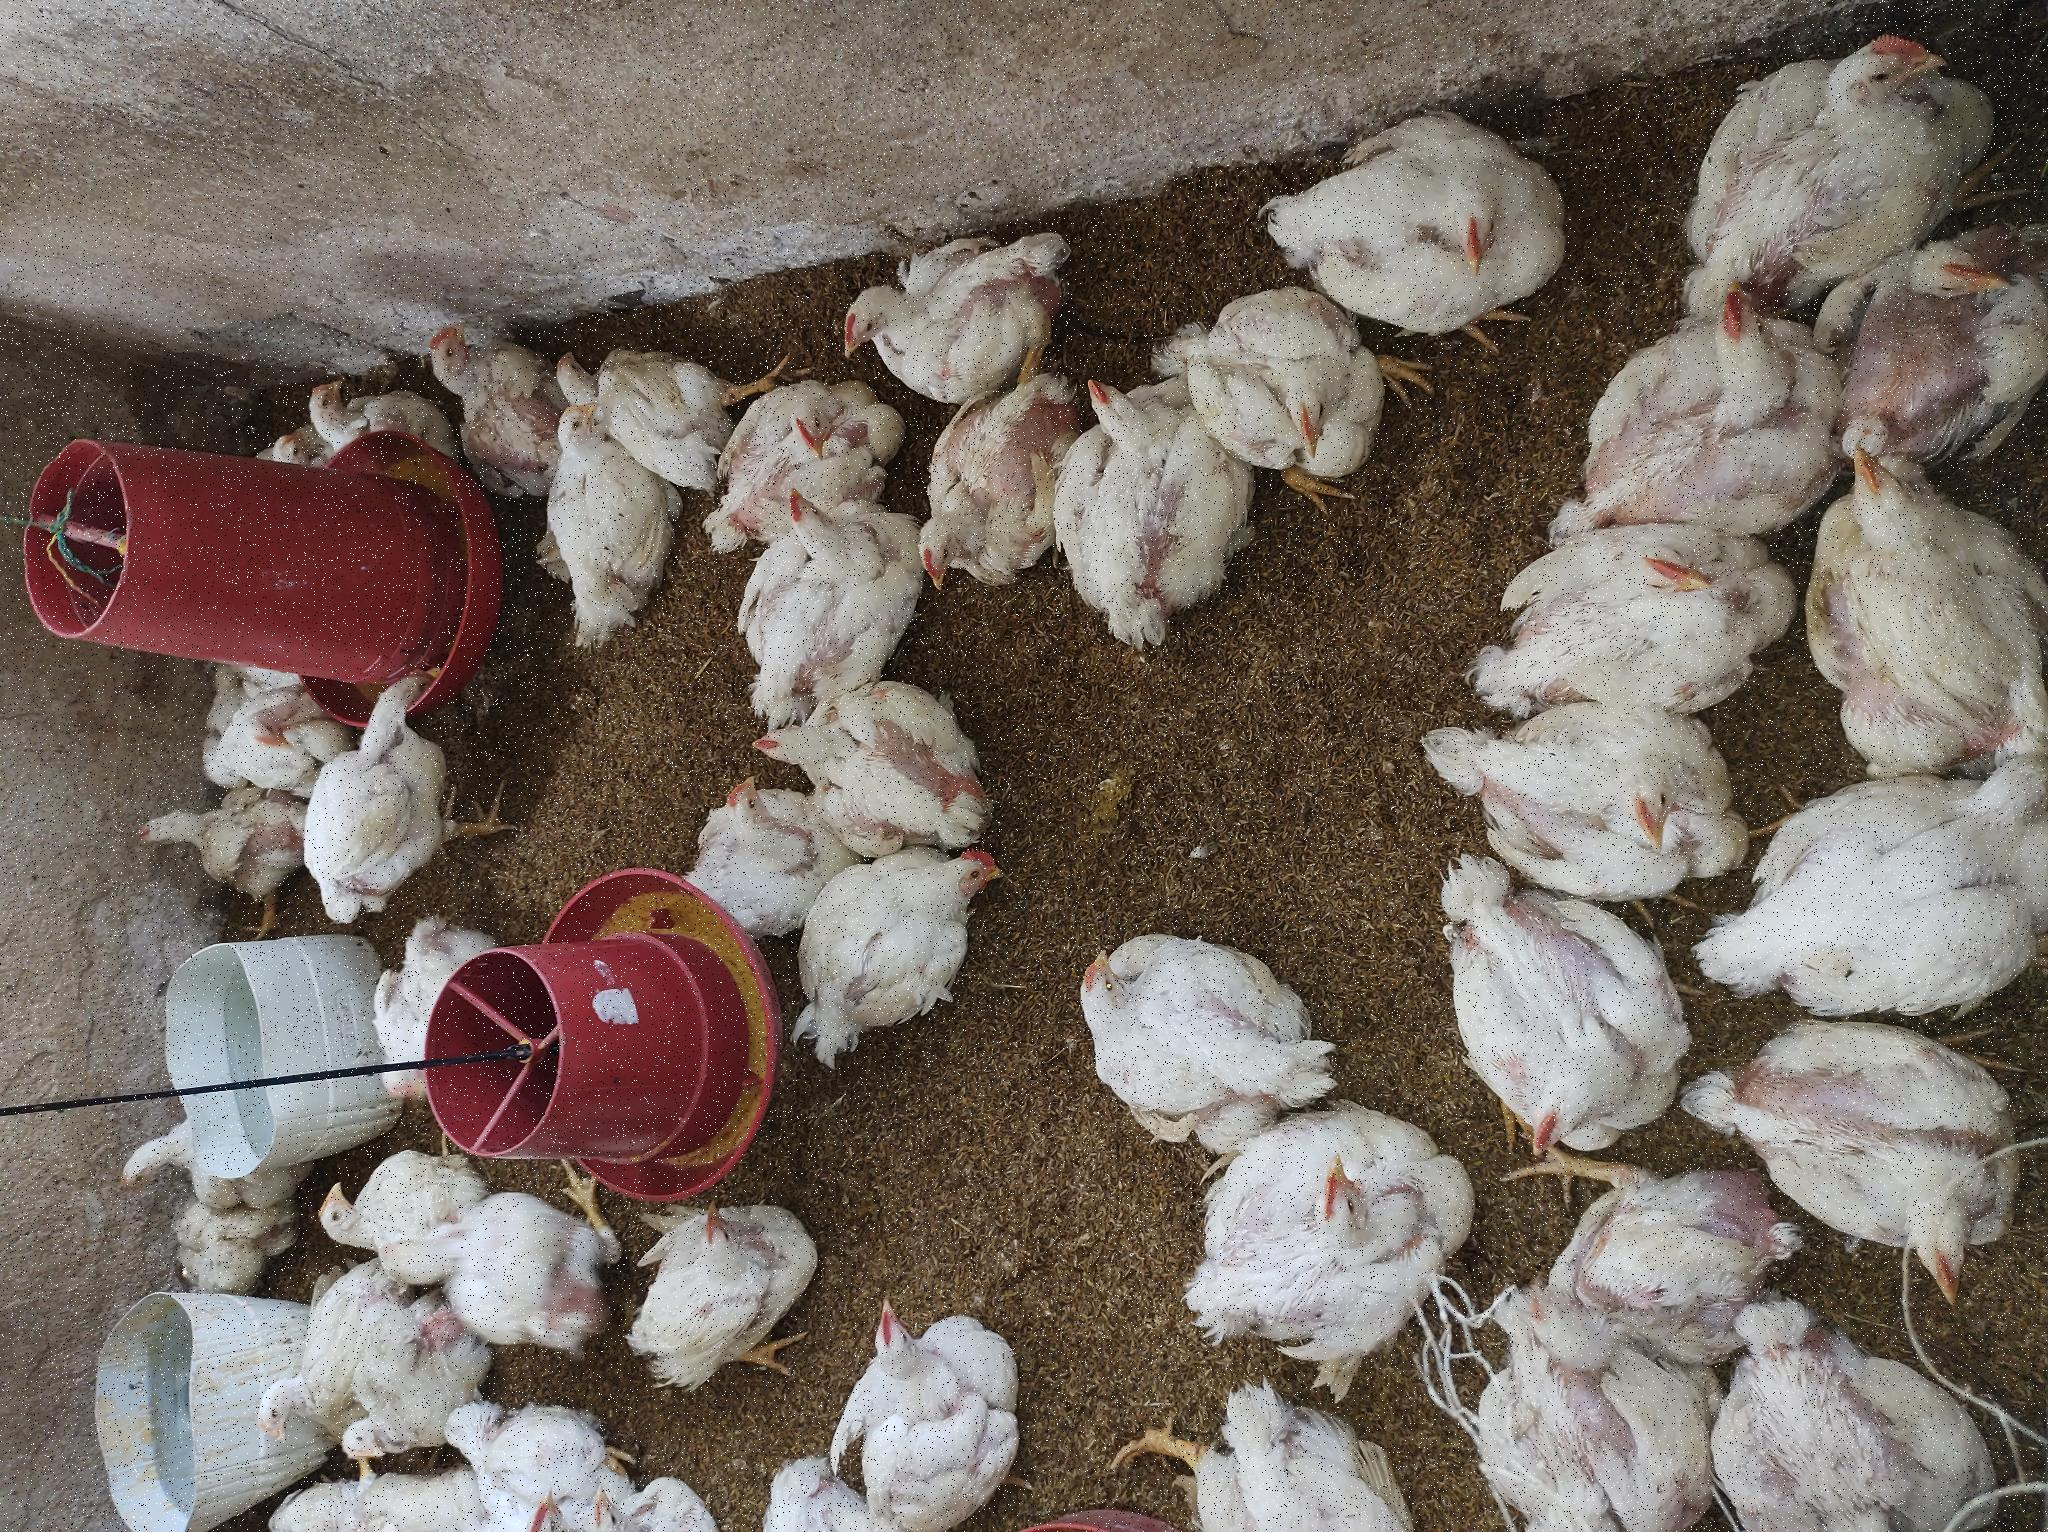Pollos: (166, 1168, 417, 1460), (394, 1025, 615, 1349), (1041, 1159, 1287, 1397), (2, 829, 245, 1060), (2, 1106, 193, 1389), (1202, 1231, 1380, 1532), (875, 1043, 1162, 1226), (462, 787, 685, 1020), (193, 409, 394, 652), (624, 293, 840, 517), (372, 1371, 658, 1532), (925, 895, 1176, 1078), (1046, 571, 1261, 784), (978, 684, 1179, 890), (692, 755, 861, 993), (134, 649, 359, 822), (1145, 842, 1319, 1060), (845, 734, 1014, 935), (911, 518, 1126, 661), (296, 105, 487, 261), (241, 298, 402, 481), (587, 82, 735, 278), (743, 175, 911, 328), (88, 240, 262, 381), (1055, 423, 1234, 558), (2, 1429, 224, 1532), (58, 320, 201, 476), (2, 478, 138, 621), (637, 1442, 846, 1532), (610, 674, 730, 817), (1055, 283, 1171, 418), (2, 594, 69, 706)
